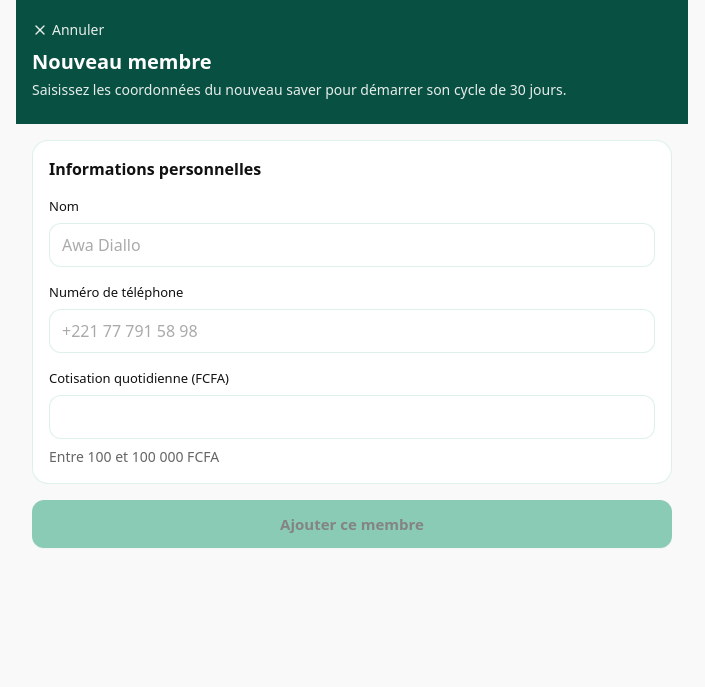
MemberForm — create mode › shows the cycle recap once a valid daily amount is entered
expect the text "Récapitulatif" is not shown: met
Type "500" into the number field labelled "Cotisation quotidienne (FCFA)" at (352, 417), box [49,395,655,439]
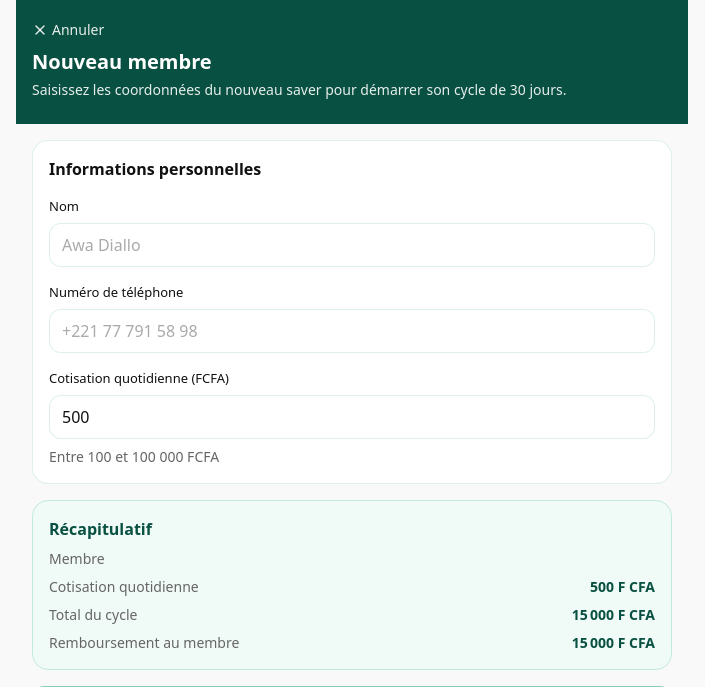
expect the heading "Récapitulatif" is shown: met, box [49,518,152,540]
expect the text "15 000 F CFA" is shown 2 times: met, box [572,605,655,625]; [572,633,655,653]
